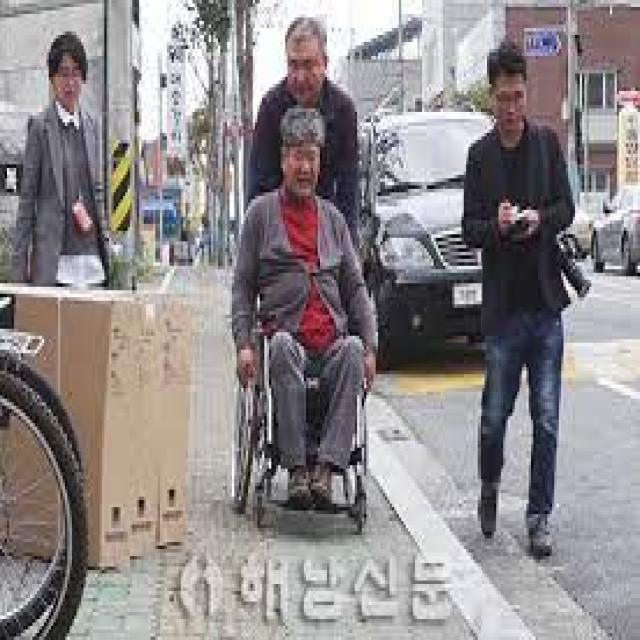wheelchair: (227, 102, 378, 538)
